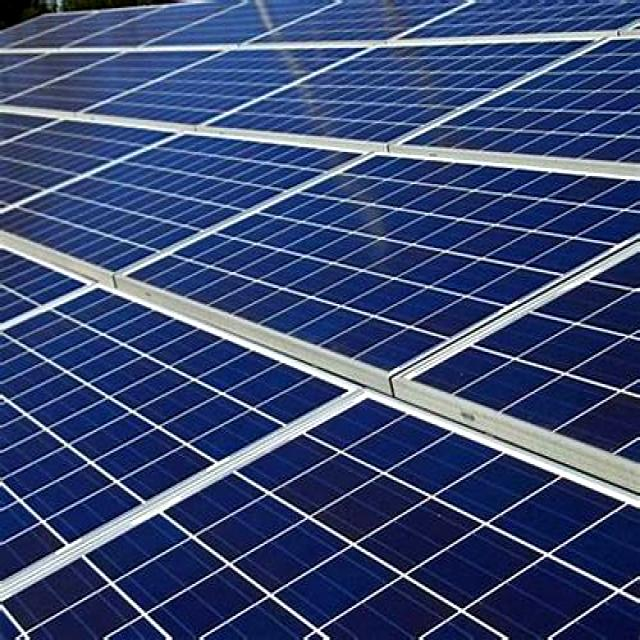crack: (85, 109, 640, 417), (0, 378, 640, 640), (0, 78, 362, 314), (196, 32, 592, 148)
